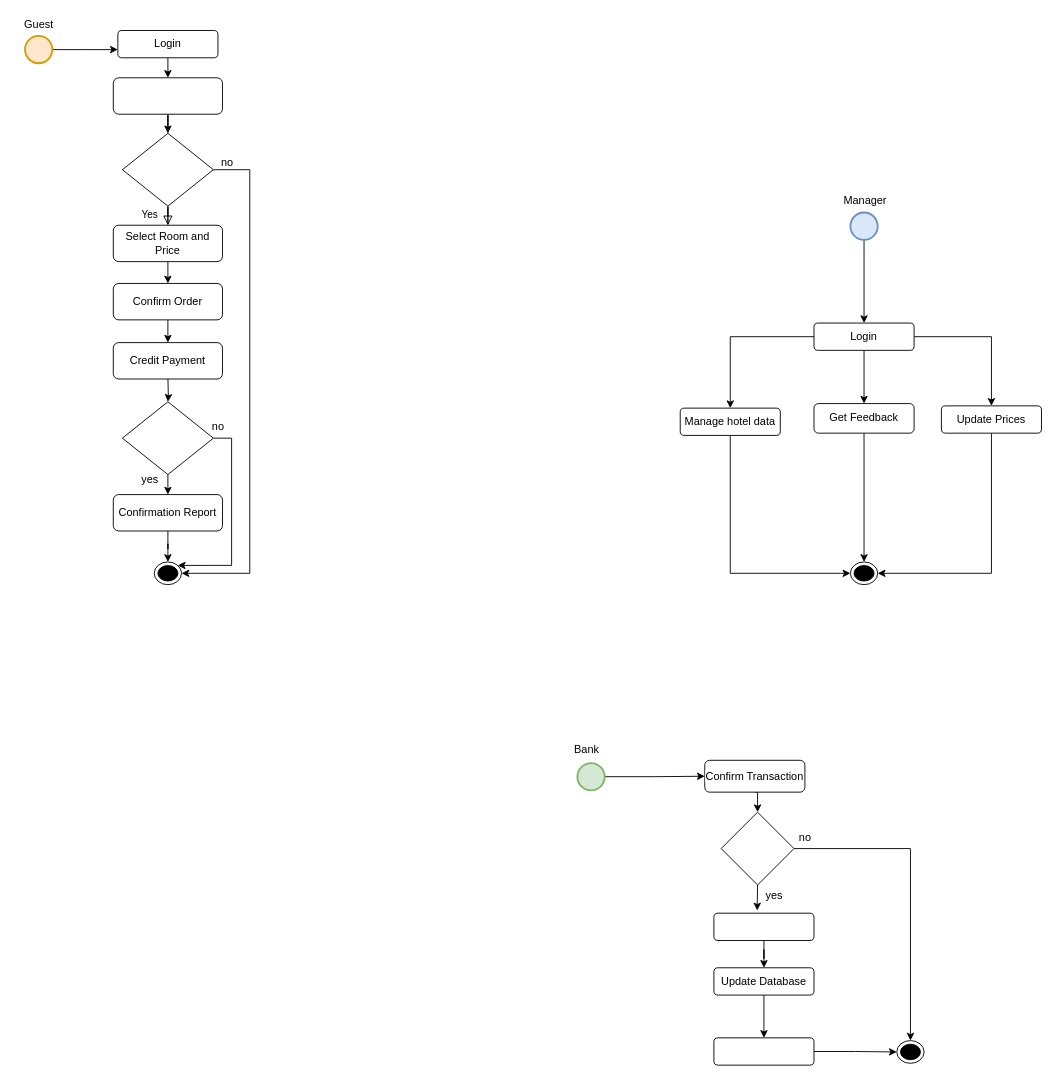
Image size: 1057x1081. Some labels were removed from this diagram. Each missing label, with the centre of its shape:
"Accept" belongs at pixel 763 926.
"Confirmation Massage" belongs at pixel 763 1051.
"Confirmed" belongs at pixel 757 848.
"Credit Confirmation" belongs at pixel 167 438.
"Room Aviliable" belongs at pixel 167 169.
"Room Reservation" belongs at pixel 167 95.
